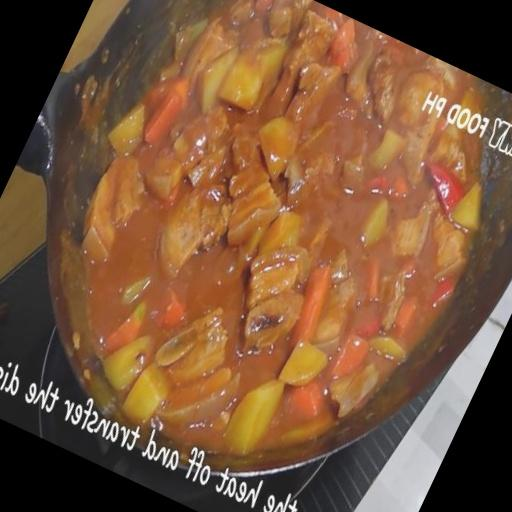pork caldereta: (68, 0, 495, 448)
